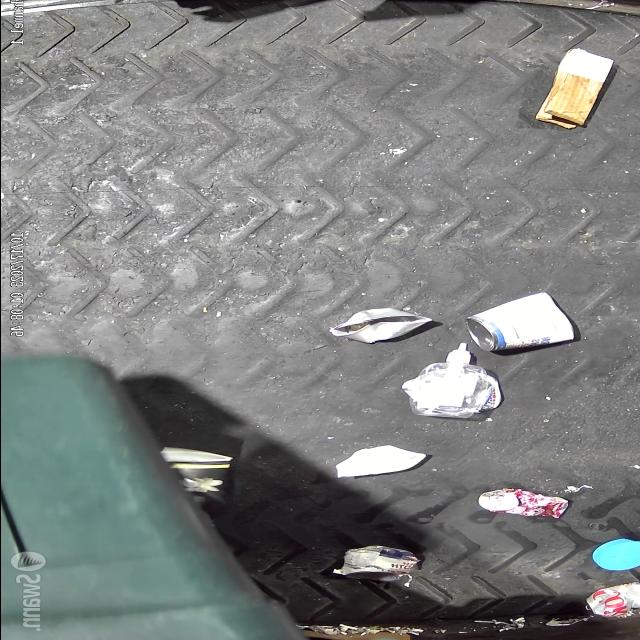can: (462, 291, 575, 353), (328, 307, 432, 343), (477, 488, 569, 520), (338, 546, 416, 581), (581, 583, 640, 621)
